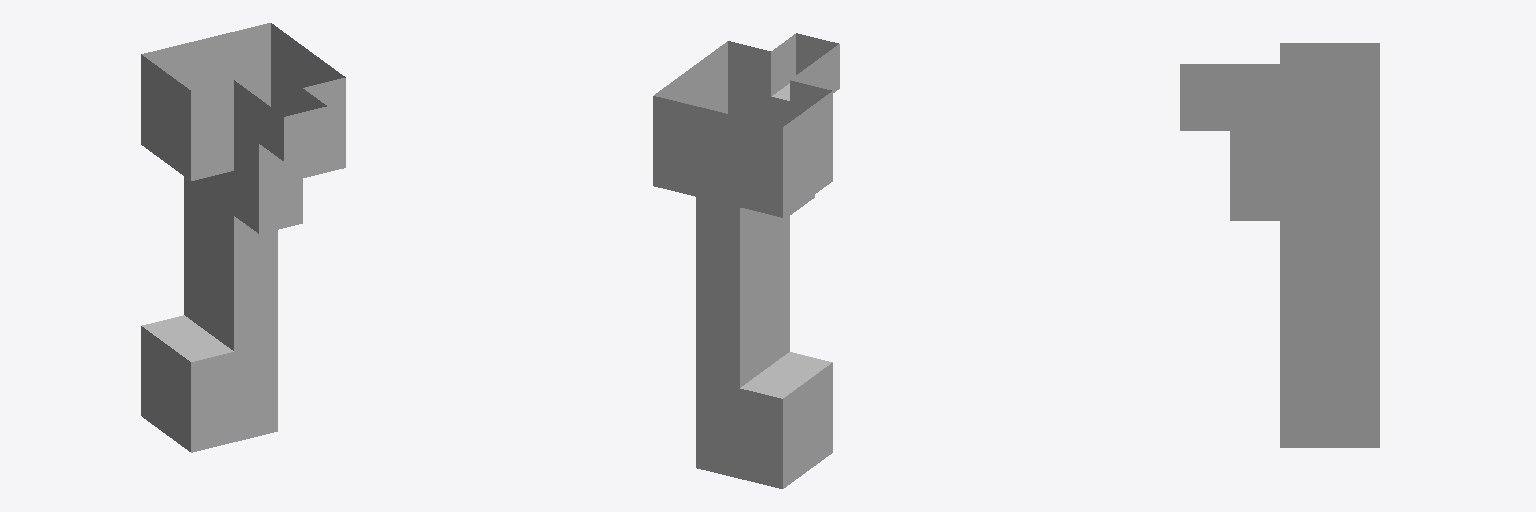
The model's file is back-left2.obj.
3 renders of one model, left to right at view 1: azimuth 30°, elevation 25°; view 2: azimuth 150°, elevation 25°; view 3: azimuth 270°, elevation 25°, orthographic.
Visible parts, largest first — view 1: back-left_x24_przewalski_horse.003; view 2: back-left_x24_przewalski_horse.003; view 3: back-left_x24_przewalski_horse.003.
Boxes of the visible parts, box(x1,y1,x2,y2) form: back-left_x24_przewalski_horse.003: box(141, 23, 345, 452); back-left_x24_przewalski_horse.003: box(653, 33, 839, 488); back-left_x24_przewalski_horse.003: box(1180, 43, 1379, 447).
Size of the model in its own units: 3 by 8 by 4.